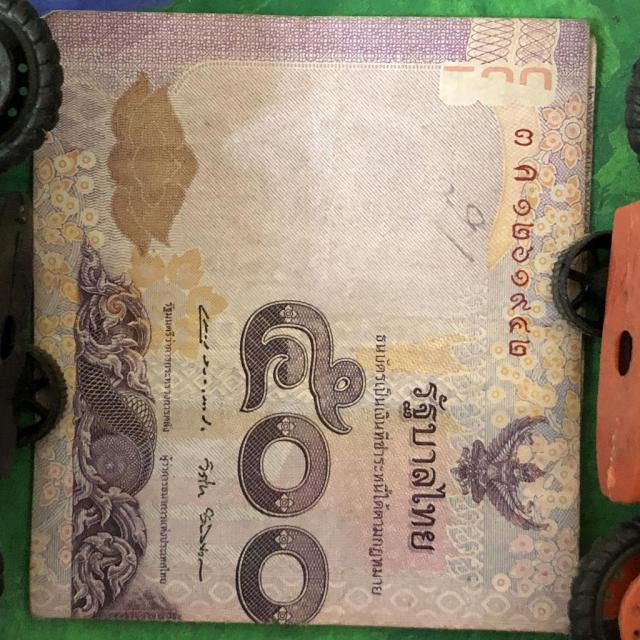THAI500: (30, 11, 595, 632)
